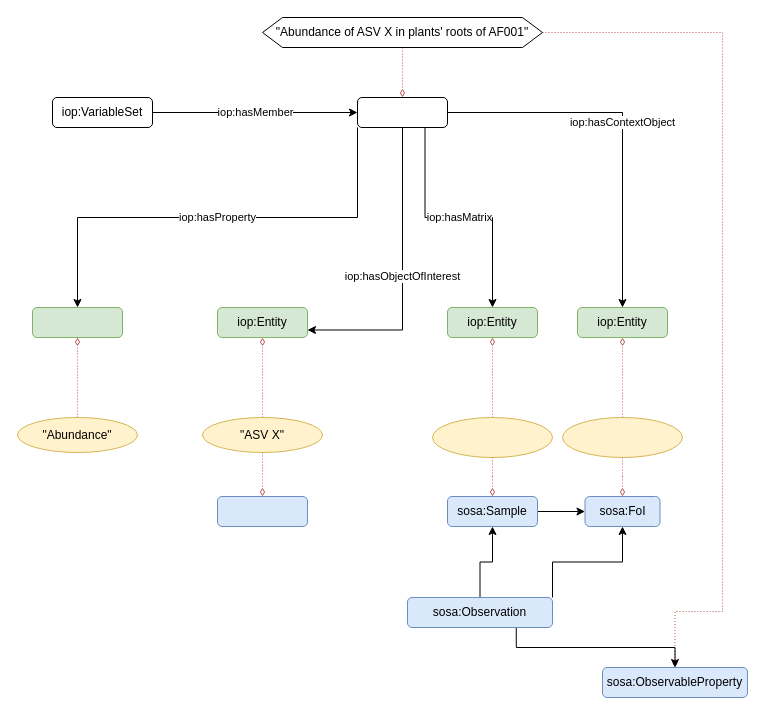
This 765x723 diagram has some shape labels left out. Each missing label, with the centre of its shape:
"AF001": point (622, 437)
iop:Property: point (77, 322)
iop:Variable: point (402, 112)
ncbitaxon: point (262, 511)
plant's root: point (492, 437)
